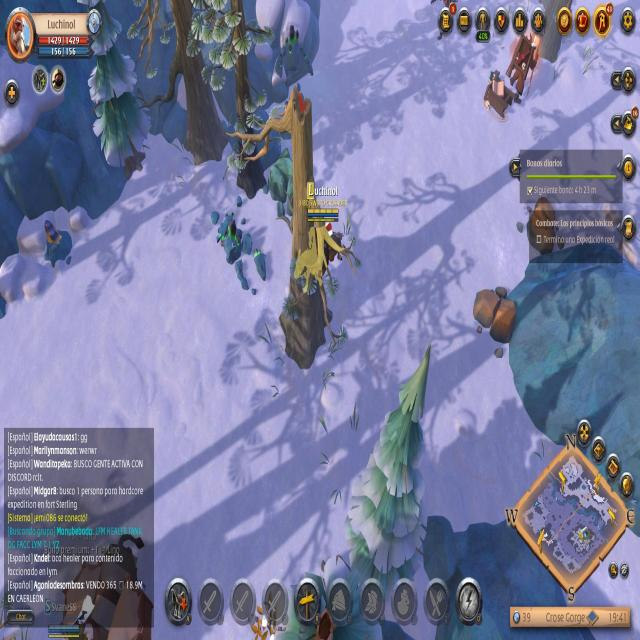piedra_cobre: (40, 212, 79, 276)
